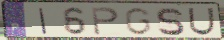6: (62, 6, 89, 36)
G: (123, 7, 152, 36)
I: (38, 7, 49, 35)
P: (90, 6, 121, 36)
S: (154, 7, 186, 37)
U: (187, 7, 216, 37)
